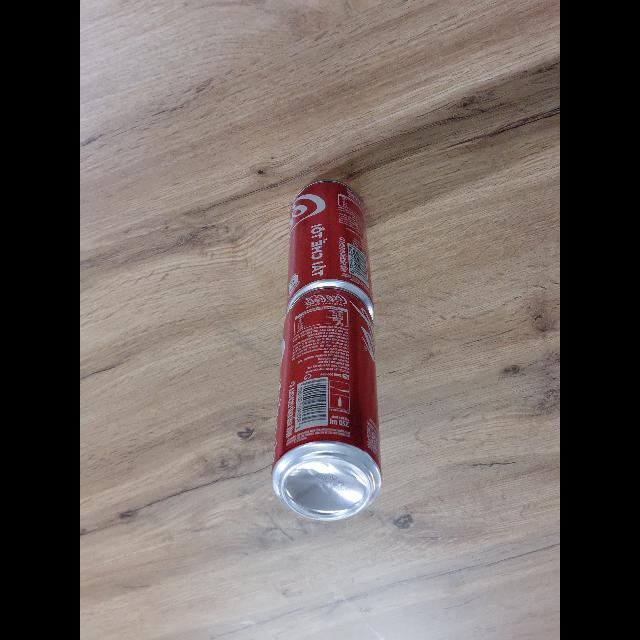coca_cola: (272, 288, 382, 520), (286, 180, 377, 322)
